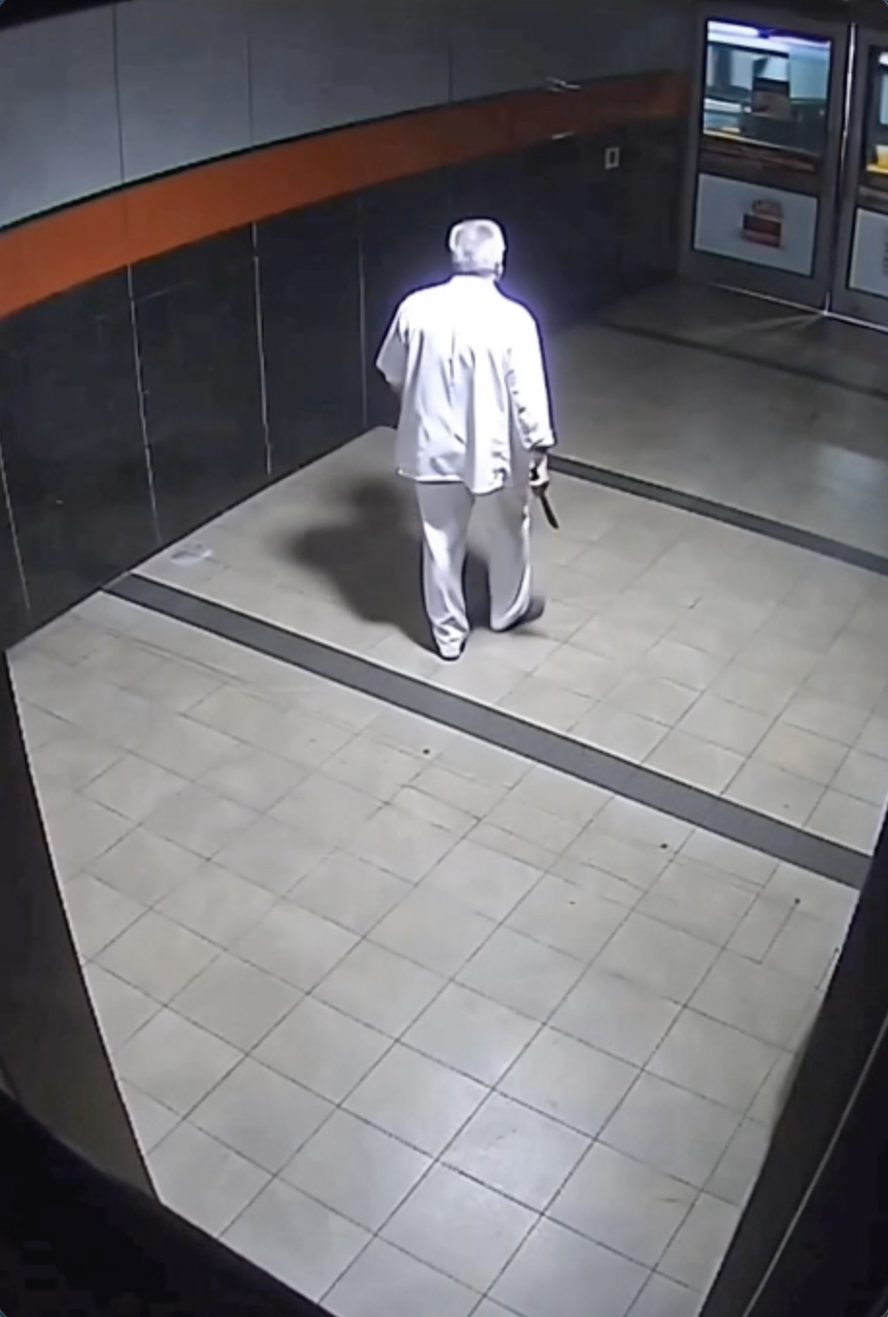Heavy Gun: (370, 203, 566, 664)
Knife: (520, 464, 563, 536)
